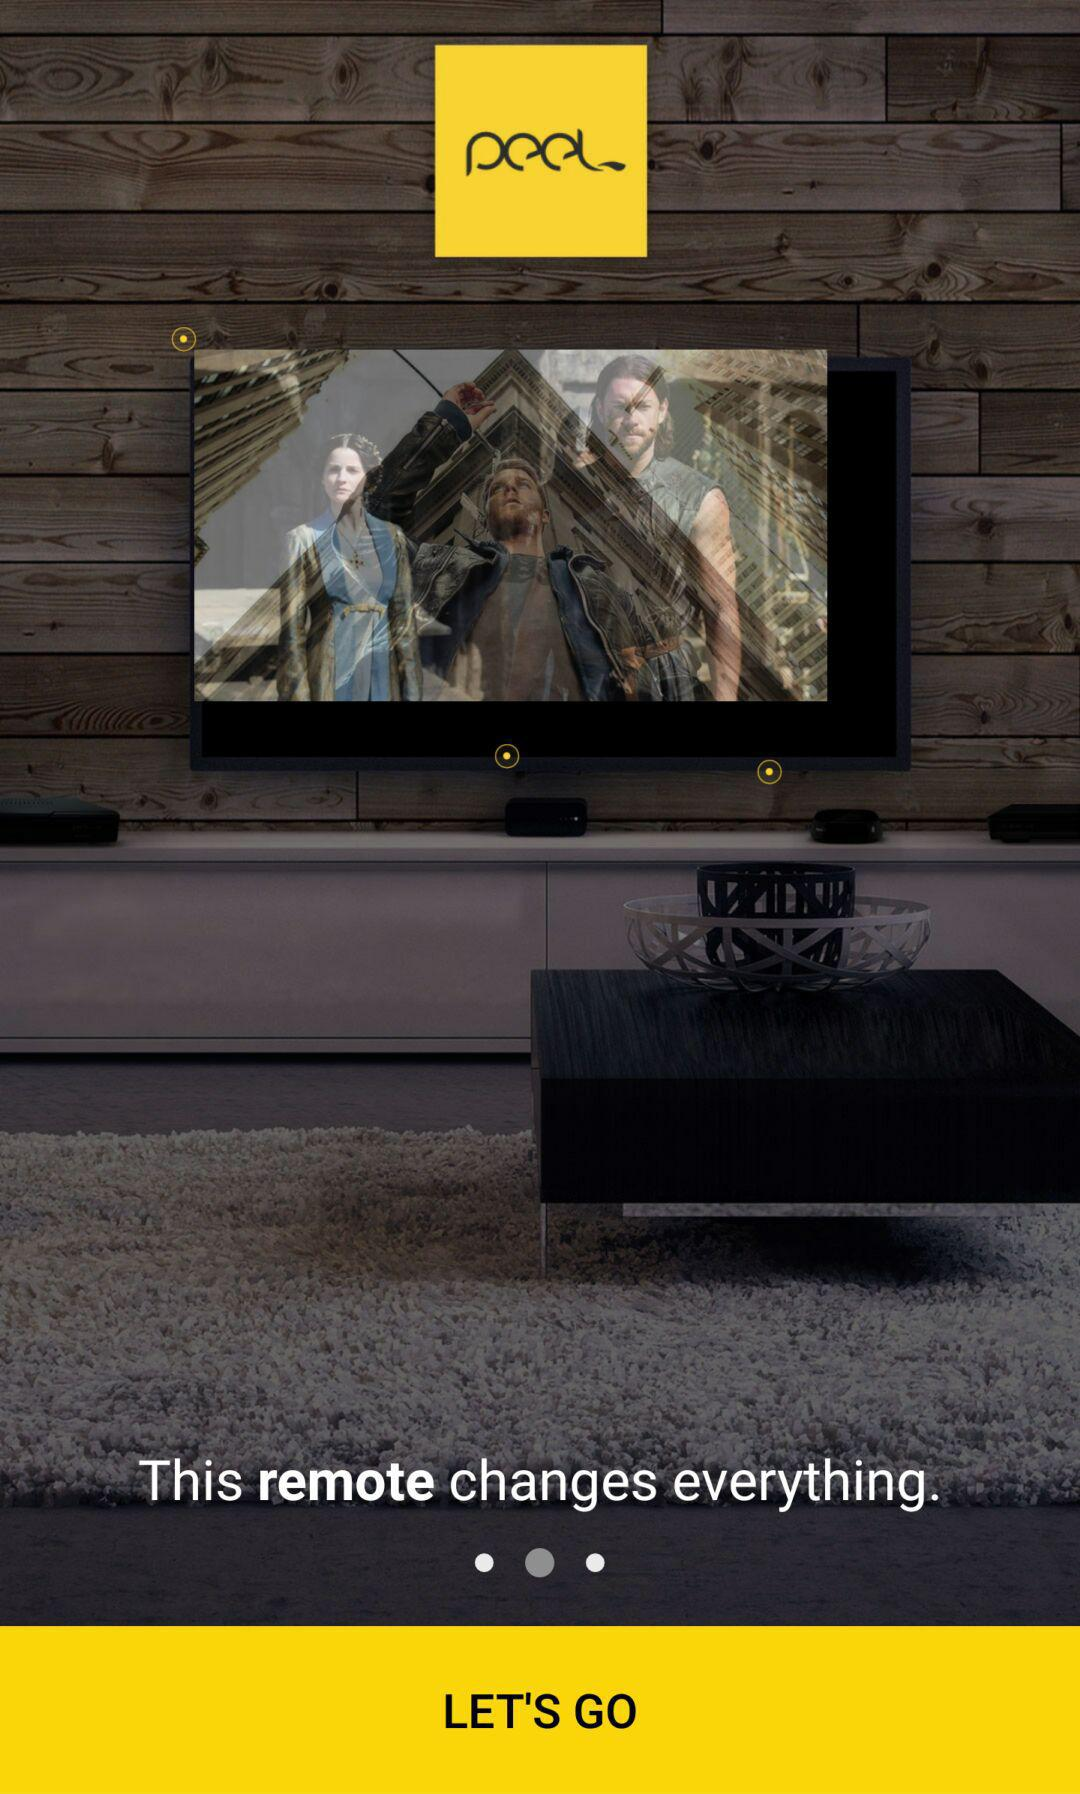Image: (1, 1, 1080, 1626)
PageIndicator: (474, 1545, 607, 1580)
Text: (138, 1457, 939, 1513)
TextButton: (1, 1626, 1080, 1794)
